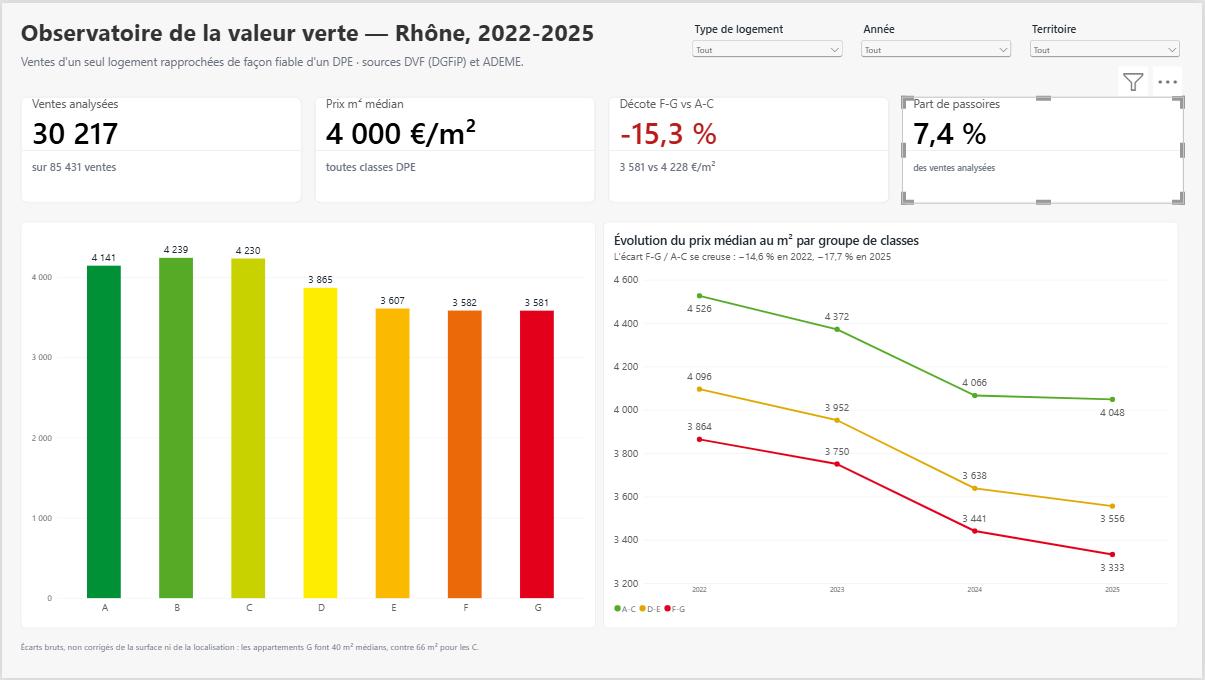

This screenshot's page, from the dashboard's own definition file:
{"tool":"powerbi","page":{"name":"Vue d'ensemble","canvas":[1920,1080],"ordinal":0},"visuals":[{"type":"textbox","box":[30,20,1050,60],"z":0},{"type":"textbox","box":[30,80,1050,40],"z":1000},{"type":"slicer","fields":{"Values":["fait_ventes.type_logement"]},"box":[1100,30,250,75],"z":2000},{"type":"slicer","fields":{"Values":["dim_temps.annee"]},"box":[1370,30,250,75],"z":3000},{"type":"slicer","fields":{"Values":["dim_commune.Zone"]},"box":[1640,30,250,75],"z":4000},{"type":"cardVisual","fields":{"Data":["Mesures.Ventes analysées (affichage)"]},"box":[30,150,450,170],"z":5000},{"type":"cardVisual","fields":{"Data":["Mesures.Prix m² médian (affichage)"]},"box":[500,150,450,170],"z":6000},{"type":"cardVisual","fields":{"Data":["Mesures.Décote F-G vs A-C"]},"box":[970,150,450,170],"z":7000},{"type":"cardVisual","fields":{"Data":["Mesures.Part de passoires"]},"box":[1440,150,450,170],"z":8000},{"type":"columnChart","title":"Prix médian au m² par classe DPE","fields":{"Category":["dim_dpe.etiquette_dpe"],"Series":["dim_dpe.etiquette_dpe"],"Y":["Mesures.Prix m² médian"]},"box":[30,350,920,650],"z":9000},{"type":"lineChart","title":"Évolution du prix médian au m² par groupe de classes","fields":{"Category":["dim_temps.annee"],"Series":["dim_dpe.Groupe DPE"],"Y":["Mesures.Prix m² médian"]},"box":[962,350,920,650],"z":10000},{"type":"textbox","box":[30,1020,1200,40],"z":11000}]}

Visuals, with their boxes in screenshot pixels (x1, y1, x2, y2), scaled from the page's 1920x1080 canvas onto the 1205x680 screenshot:
textbox: bbox=(19, 13, 678, 50)
textbox: bbox=(19, 50, 678, 76)
slicer - fait_ventes.type_logement: bbox=(690, 19, 847, 66)
slicer - dim_temps.annee: bbox=(860, 19, 1017, 66)
slicer - dim_commune.Zone: bbox=(1029, 19, 1186, 66)
cardVisual - Mesures.Ventes analysées (affichage): bbox=(19, 94, 301, 201)
cardVisual - Mesures.Prix m² médian (affichage): bbox=(314, 94, 596, 201)
cardVisual - Mesures.Décote F-G vs A-C: bbox=(609, 94, 891, 201)
cardVisual - Mesures.Part de passoires: bbox=(904, 94, 1186, 201)
"Prix médian au m² par classe DPE" columnChart: bbox=(19, 220, 596, 630)
"Évolution du prix médian au m² par groupe de classes" lineChart: bbox=(604, 220, 1181, 630)
textbox: bbox=(19, 642, 772, 667)
